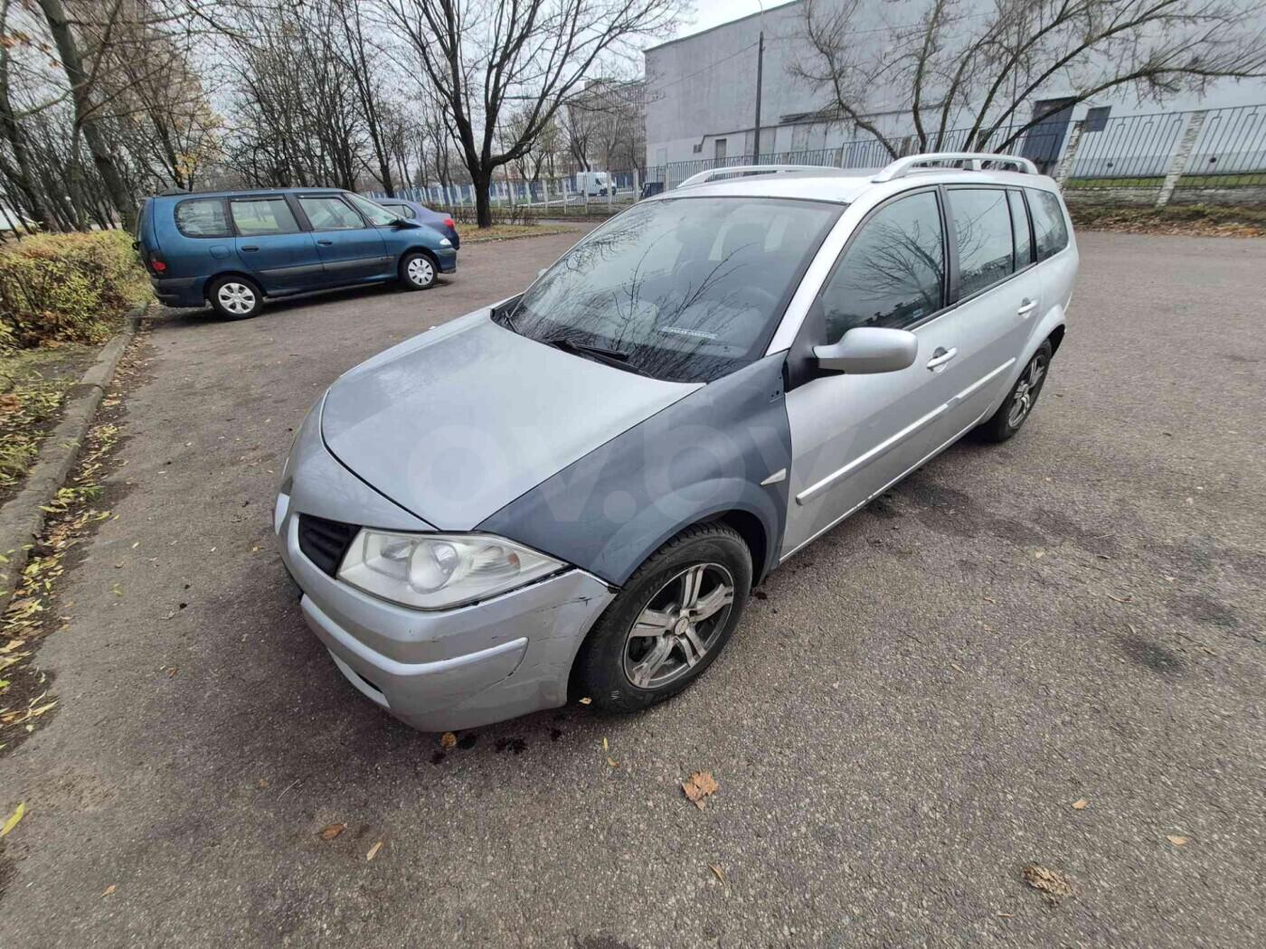Megane_2005-2009: (266, 168, 1093, 731)
